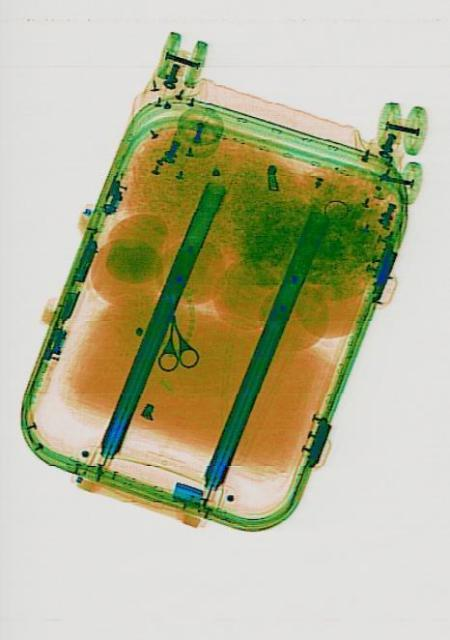Scissors: (150, 310, 198, 372)
